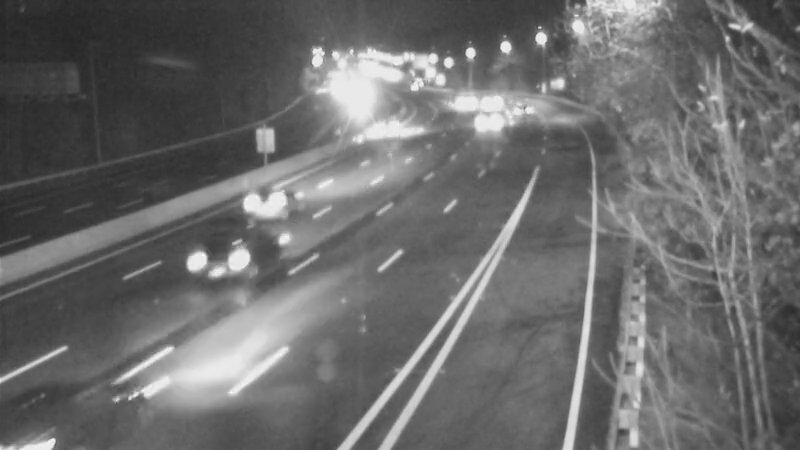vehicle: (1, 357, 95, 450), (219, 162, 299, 242), (183, 229, 263, 309), (441, 81, 491, 131), (464, 76, 514, 126), (496, 86, 546, 136), (457, 91, 507, 141), (363, 96, 413, 146)
